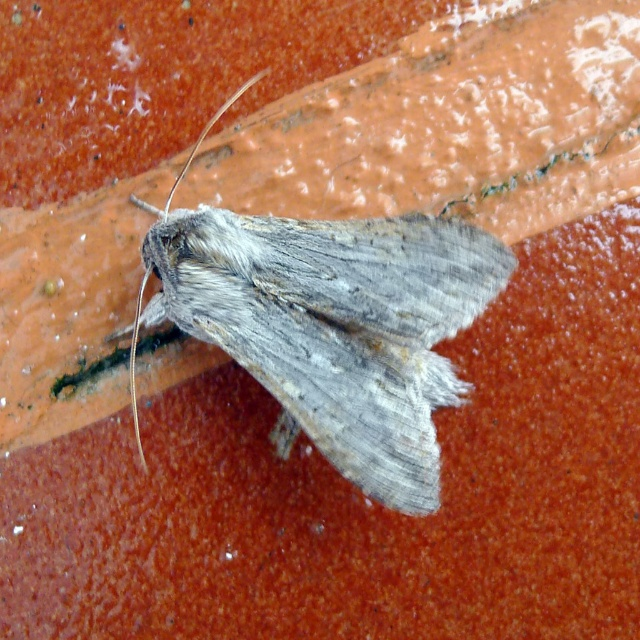Moths and butterflies: (106, 64, 525, 521)
